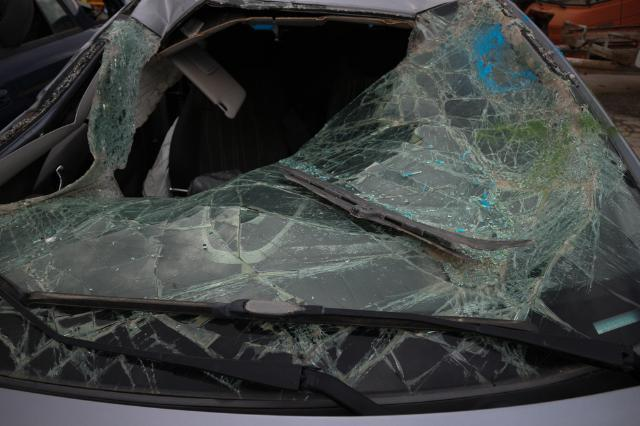glass shatter: (0, 0, 640, 402)
